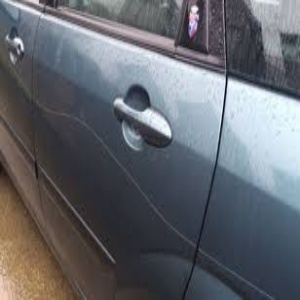door_scratch: (39, 116, 215, 235)
